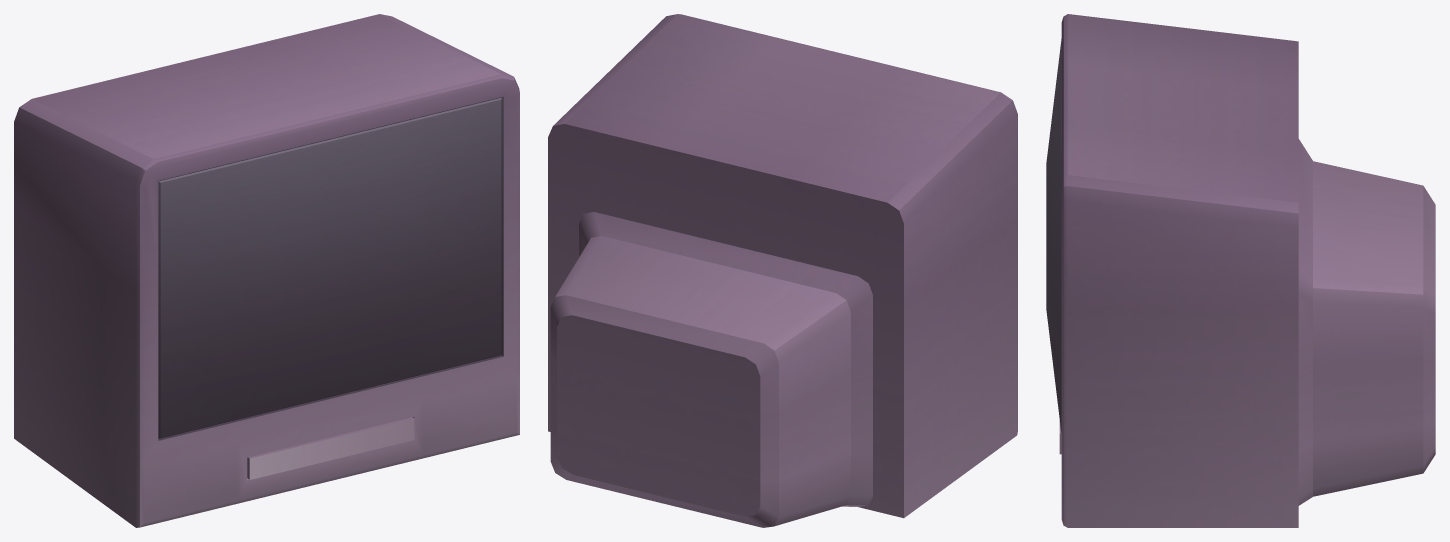
3 views of the same model, side by side, from view 1: azimuth 30°, elevation 25°; view 2: azimuth 150°, elevation 25°; view 3: azimuth 270°, elevation 25° (orthographic). The views are drawn at different scales.
Parts seen in each view (by area): view 1: SM_TV; view 2: SM_TV; view 3: SM_TV.
Boxes of the visible parts, <box> form: SM_TV: <box>14,14,519,527</box>; SM_TV: <box>548,14,1017,527</box>; SM_TV: <box>1046,14,1435,527</box>.
Size of the model in its own units: 154 by 140 by 143.
1 material, 1 textured.
